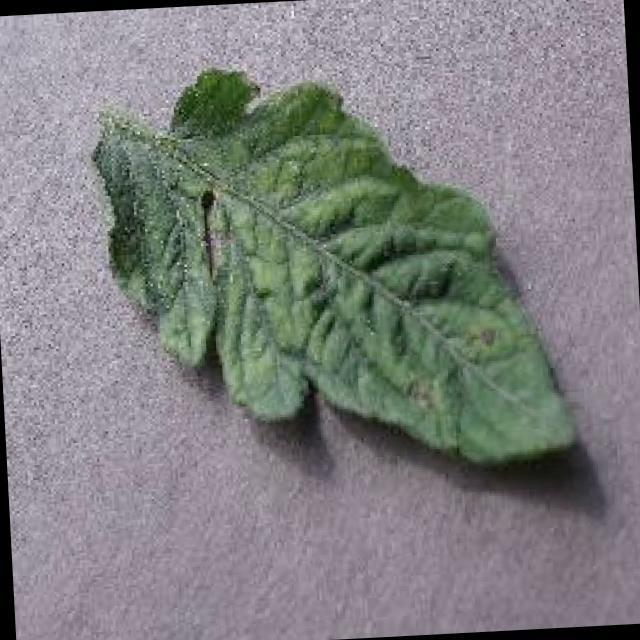Tomato mosaic virus leaf: (89, 50, 578, 492)
